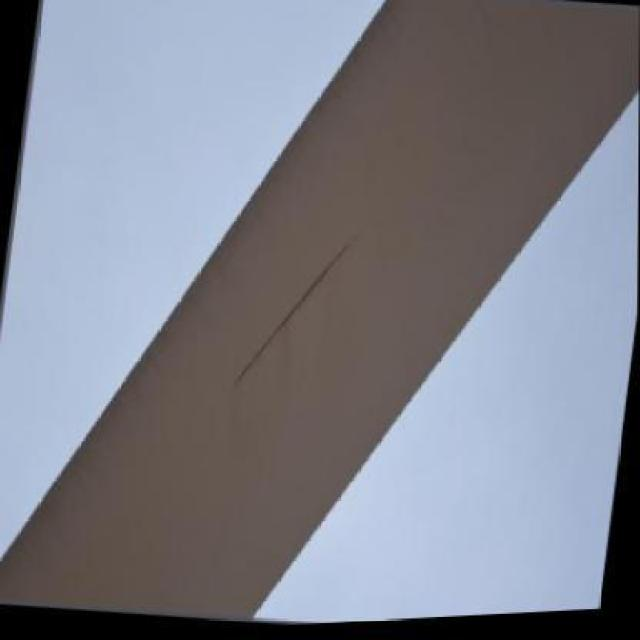Crack: (232, 240, 352, 388)
